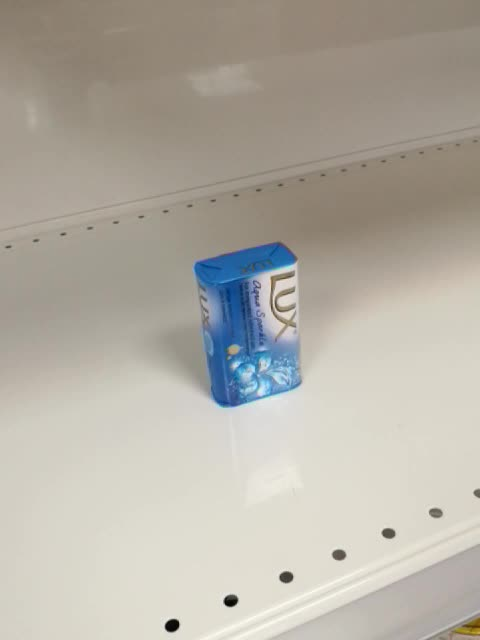soap: (192, 239, 305, 410)
